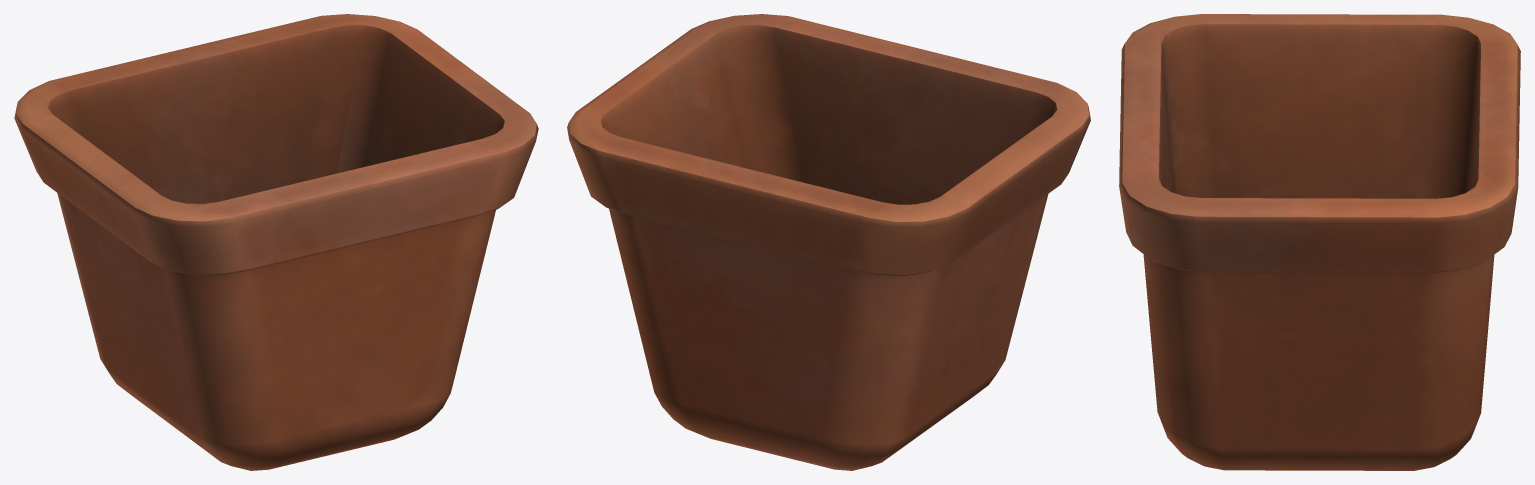
The model's file is SM_Pot_02.fbx.
3 views of the same model, side by side, from view 1: azimuth 30°, elevation 25°; view 2: azimuth 150°, elevation 25°; view 3: azimuth 270°, elevation 25° (orthographic). The views are drawn at different scales.
Visible parts, largest first — view 1: SM_Pot_02_LOD0; view 2: SM_Pot_02_LOD0; view 3: SM_Pot_02_LOD0.
Part boxes in pixels (x1,y1,x2,y2): SM_Pot_02_LOD0: (14, 14, 538, 470); SM_Pot_02_LOD0: (567, 14, 1090, 470); SM_Pot_02_LOD0: (1119, 14, 1520, 470).
Size of the model in its own units: 20.92 by 17.32 by 15.26.
1 material, 1 textured.
